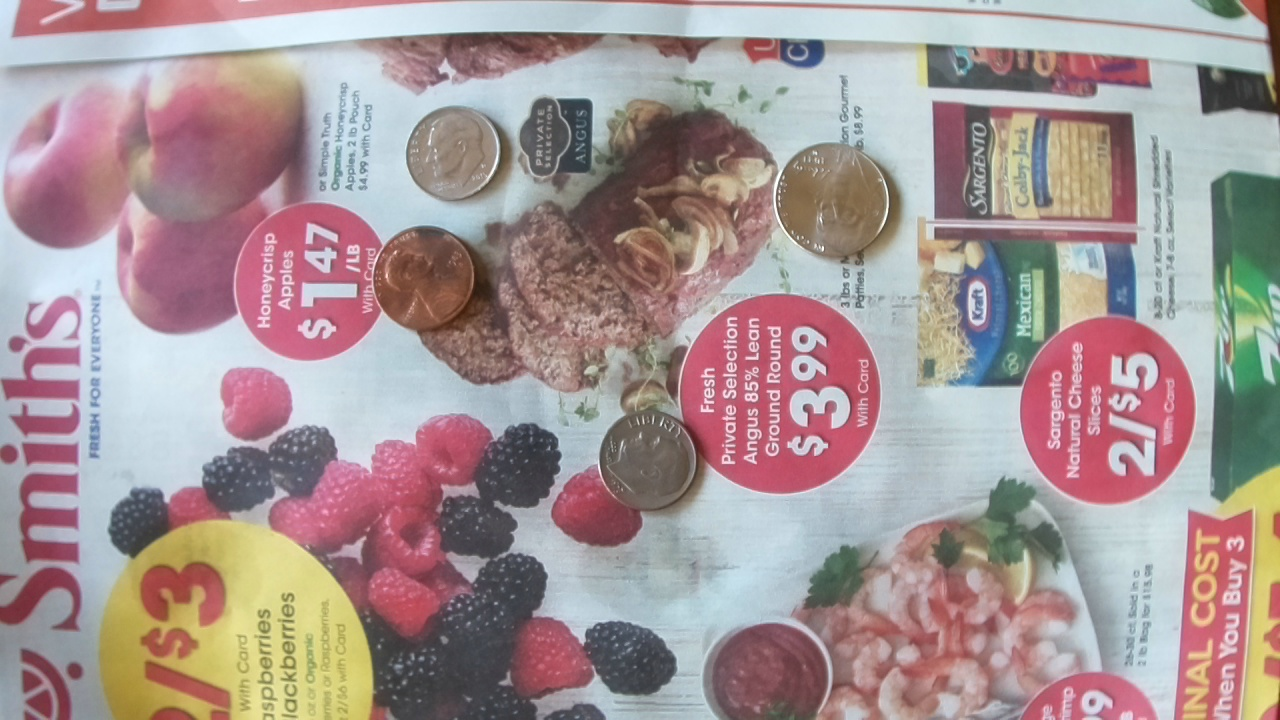dime: (597, 407, 697, 510), (405, 104, 502, 202)
nickel: (774, 142, 892, 257)
penny: (372, 225, 477, 330)
